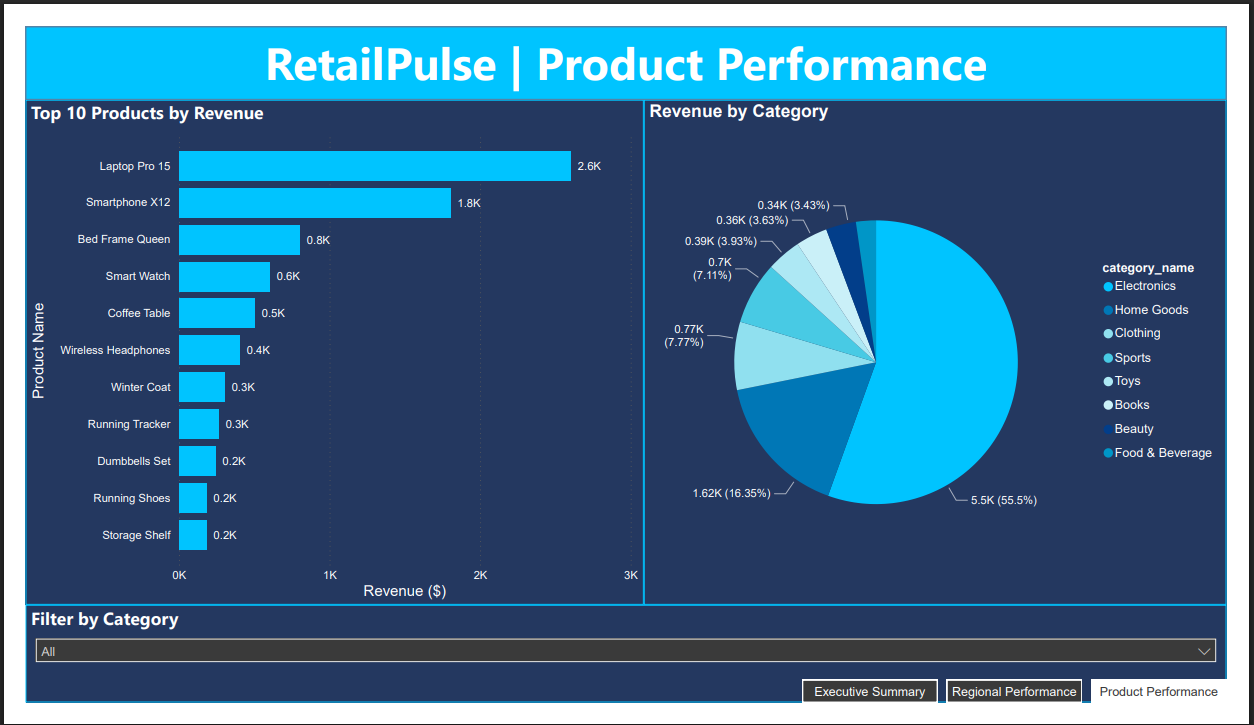

The dashboard page shown, as its layout file describes it:
{"tool":"powerbi","page":{"name":"Product Performance","canvas":[1280,720],"ordinal":2},"visuals":[{"type":"clusteredBarChart","title":"Top 10 Products by Revenue","fields":{"Category":["public products.product_name"],"Y":["Sum(public order_items.price_at_purchase)"]},"box":[0,77.5,658.8,538.8],"z":0},{"type":"pieChart","title":"Revenue by Category","fields":{"Category":["public categories.category_name"],"Y":["Sum(public order_items.price_at_purchase)"]},"box":[658.8,77.5,621.2,538.8],"z":1},{"type":"slicer","title":"Filter by Category","fields":{"Values":["public categories.category_name"]},"box":[0,616.2,1280,103.8],"z":2},{"type":"shape","box":[0,0,1280,77.5],"z":3},{"type":"textbox","box":[0,0,1280,77.5],"z":4},{"type":"pageNavigator","box":[827.5,696.2,452.5,23.8],"z":5}]}

Visuals, with their boxes in screenshot pixels (x1, y1, x2, y2), scaled from the page's 1280x720 canvas onto the 1254x725 screenshot:
"Top 10 Products by Revenue" clusteredBarChart: region(0, 78, 645, 621)
"Revenue by Category" pieChart: region(645, 78, 1253, 621)
"Filter by Category" slicer: region(0, 620, 1253, 724)
shape: region(0, 0, 1253, 78)
textbox: region(0, 0, 1253, 78)
pageNavigator: region(811, 701, 1253, 724)
